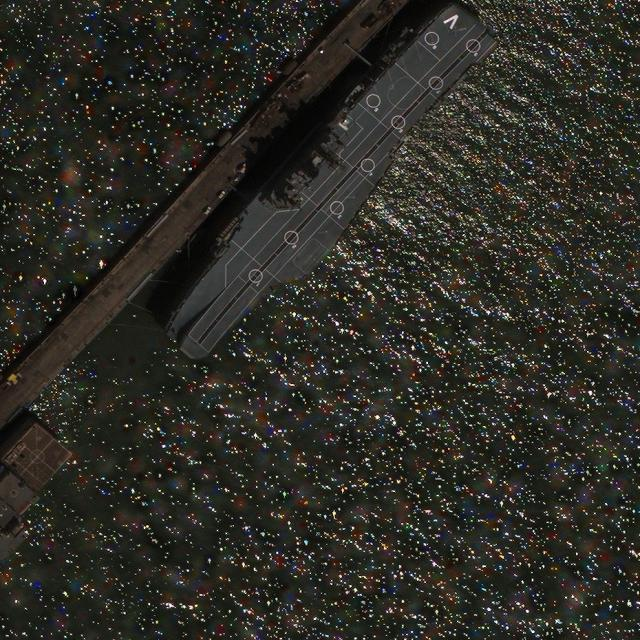Aircraft Carrier: (153, 2, 500, 365)
Other Warship: (1, 423, 74, 562)
